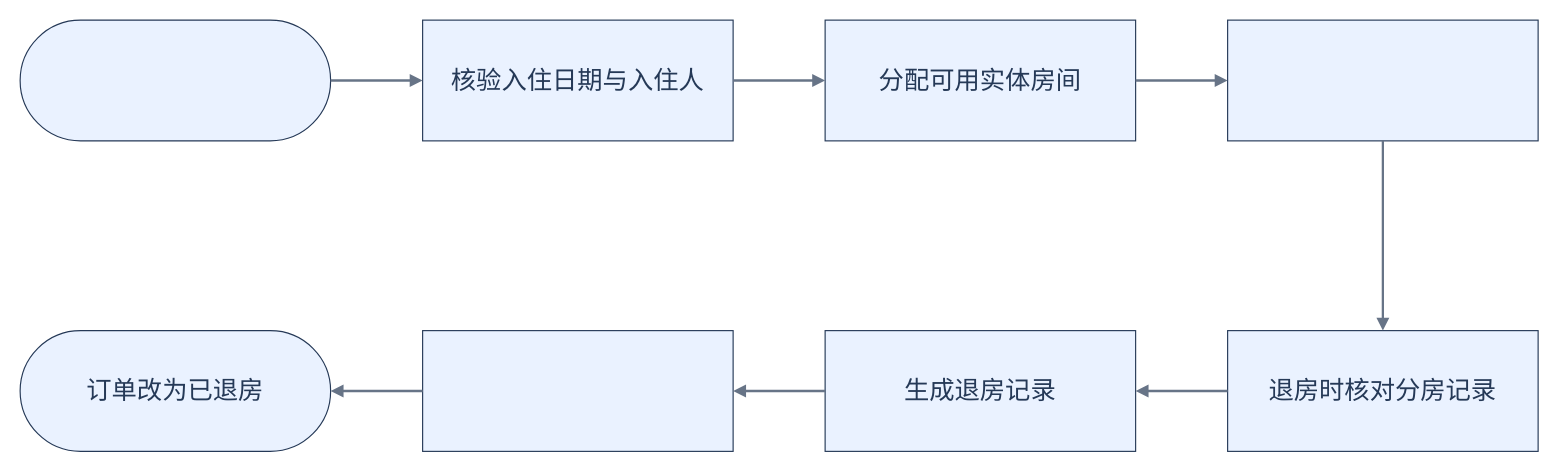
Image size: 1558x472. Some labels were removed from this diagram. The shapes that lost their labels are listed below. From the top down, each one's centre as x and y in pixels, then its label:
At (x=175, y=80): "查询已付款待入住订单".
At (x=1382, y=80): "订单改为已入住".
At (x=577, y=390): "房间转为待清洁".
